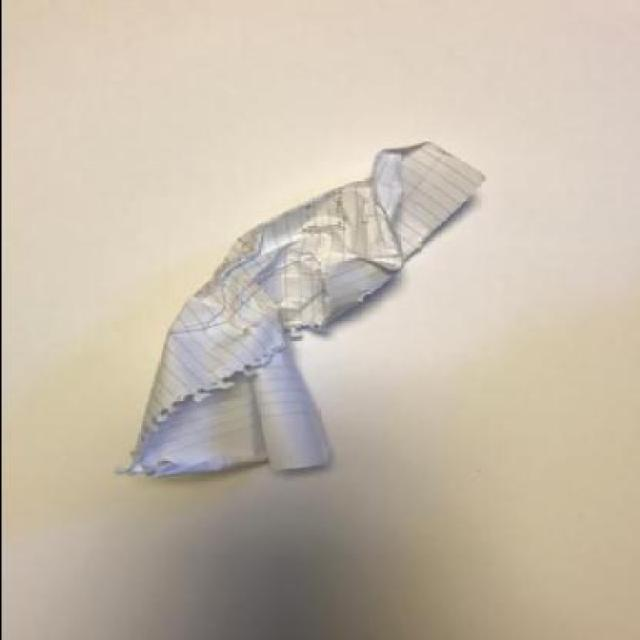PAPER: (118, 141, 484, 476)
